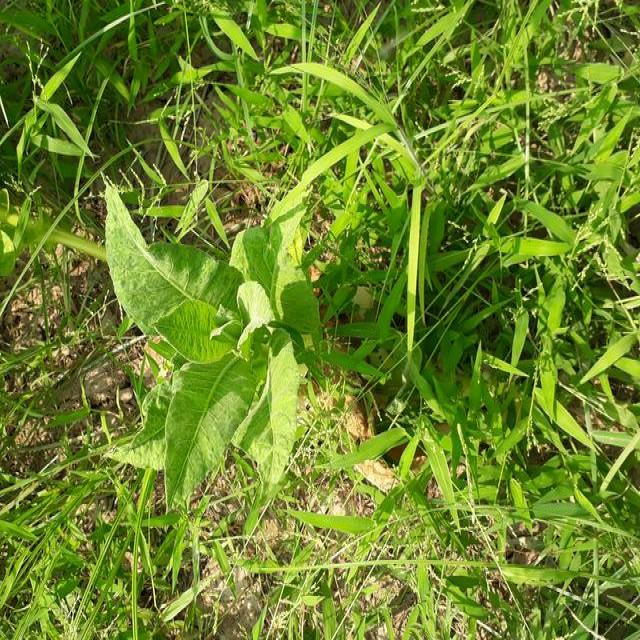crop: (91, 170, 312, 526)
